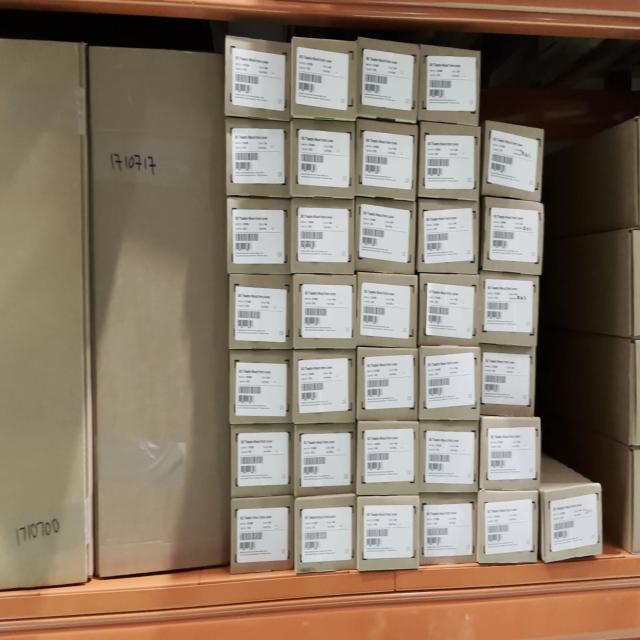box: (93, 47, 229, 575), (0, 39, 92, 582), (294, 32, 358, 118), (227, 37, 290, 120), (294, 117, 355, 200), (228, 197, 294, 273), (230, 272, 294, 350), (486, 120, 544, 203), (423, 46, 480, 129), (361, 40, 419, 121), (294, 272, 354, 350), (230, 425, 294, 498), (296, 419, 355, 498), (357, 347, 420, 419), (356, 495, 419, 567), (421, 274, 482, 348), (359, 121, 416, 200), (355, 418, 415, 493), (230, 351, 294, 421), (420, 418, 478, 495), (228, 123, 289, 196), (484, 198, 544, 272), (482, 415, 542, 487), (358, 198, 412, 278), (232, 501, 294, 570), (295, 199, 352, 274), (297, 498, 353, 572), (481, 273, 538, 345), (356, 278, 415, 346), (544, 485, 602, 554), (477, 496, 536, 563), (419, 346, 477, 414), (297, 353, 353, 422), (480, 344, 535, 413), (422, 495, 473, 564)
